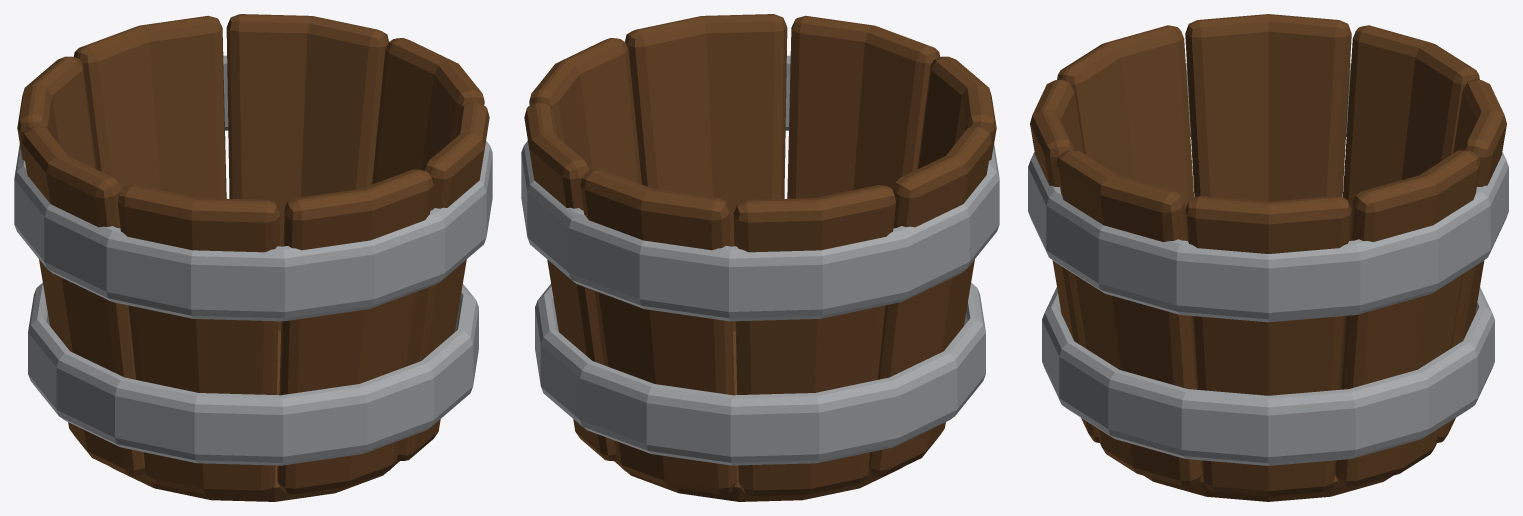
The model's file is market-bucket.fbx.
The picture shows the model from 3 angles, left to right: view 1: azimuth 30°, elevation 25°; view 2: azimuth 150°, elevation 25°; view 3: azimuth 270°, elevation 25°; orthographic projection.
Visible parts, largest first — view 1: Circle.027; view 2: Circle.027; view 3: Circle.027.
Part boxes in pixels (<box>): Circle.027: <box>14,14,492,501</box>; Circle.027: <box>521,14,999,501</box>; Circle.027: <box>1028,14,1508,501</box>.
Size of the model in its own units: 64.75 by 49.2 by 64.75.
